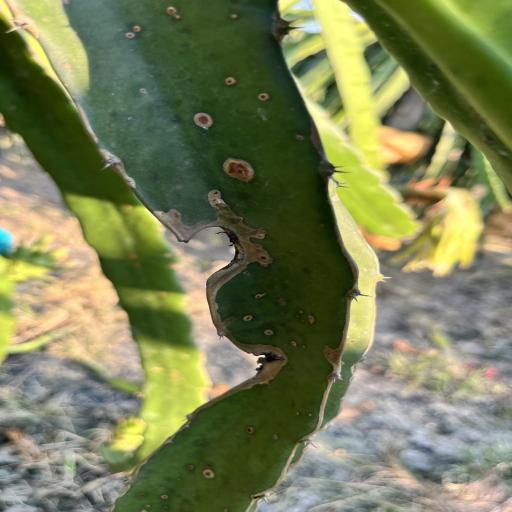stemcanker: (105, 1, 261, 49), (241, 308, 329, 353), (219, 71, 278, 125), (165, 455, 220, 483), (127, 490, 184, 512), (237, 422, 281, 449), (284, 130, 320, 158), (122, 82, 174, 100), (57, 58, 83, 94), (282, 405, 318, 424), (249, 247, 280, 266), (206, 184, 225, 204), (55, 0, 80, 15), (118, 112, 141, 128), (192, 434, 210, 451), (278, 361, 298, 374), (251, 230, 276, 240), (248, 288, 267, 301), (212, 503, 237, 512), (344, 333, 362, 345), (240, 268, 261, 276), (334, 358, 350, 368), (269, 432, 283, 442), (137, 88, 151, 96), (230, 12, 241, 20), (362, 328, 372, 336), (350, 322, 360, 327), (125, 118, 139, 120)
